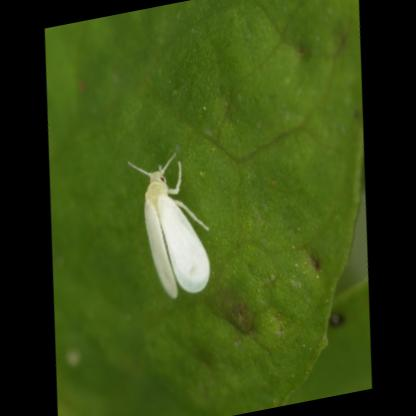whitefly: (142, 168, 209, 296)
